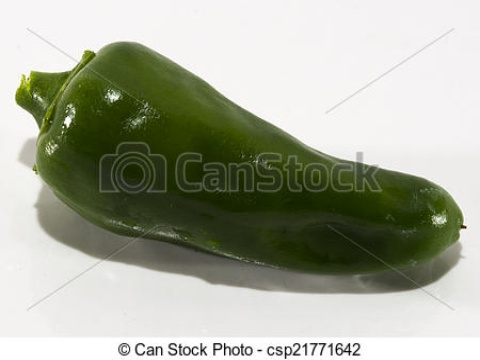Chilli: (13, 31, 478, 300)
